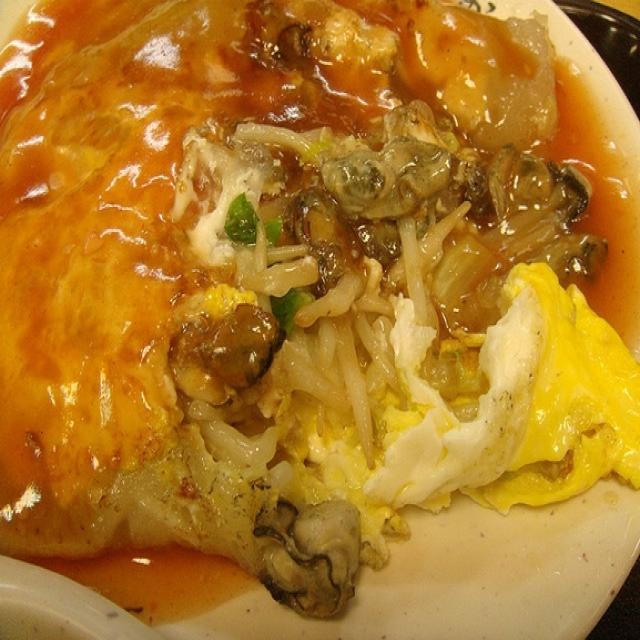熟制海鲜: (6, 4, 631, 626)
